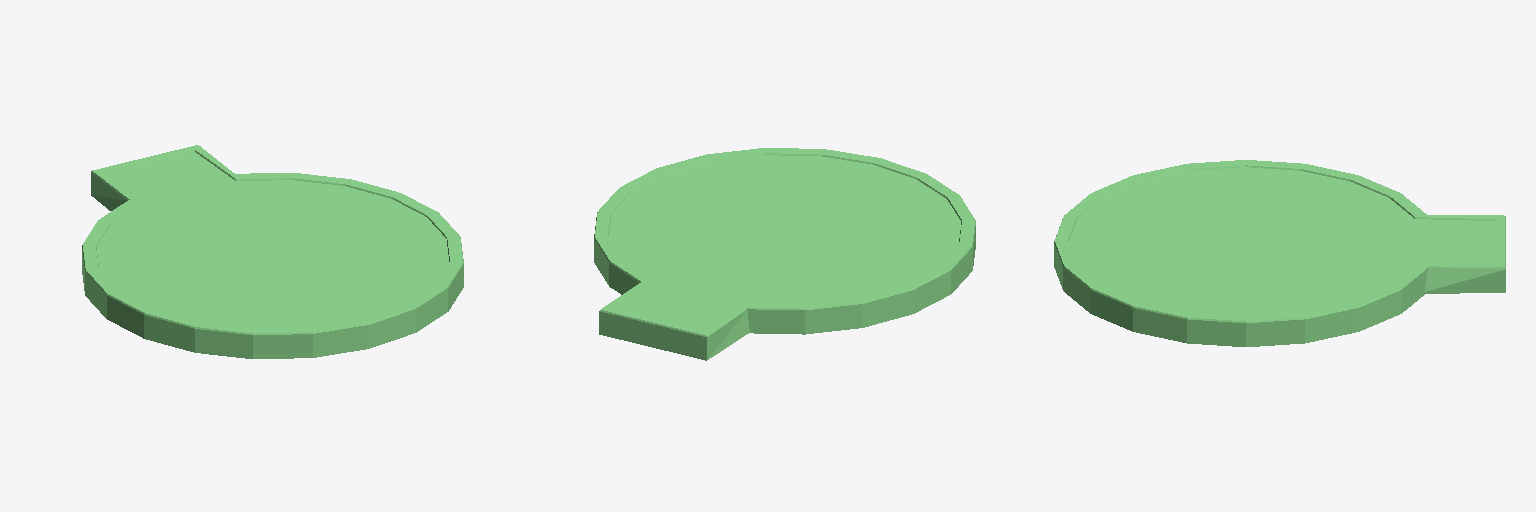
File: Map_Main.obj
3 renders of one model, left to right at view 1: azimuth 30°, elevation 25°; view 2: azimuth 150°, elevation 25°; view 3: azimuth 270°, elevation 25°, orthographic.
Visible parts, largest first — view 1: Cylinder001; view 2: Cylinder001; view 3: Cylinder001.
Boxes of the visible parts, x1=… form: Cylinder001: x1=82, y1=145, x2=463, y2=358; Cylinder001: x1=594, y1=148, x2=975, y2=360; Cylinder001: x1=1054, y1=160, x2=1505, y2=346.
Size of the model in its own units: 89 by 7.88 by 105.